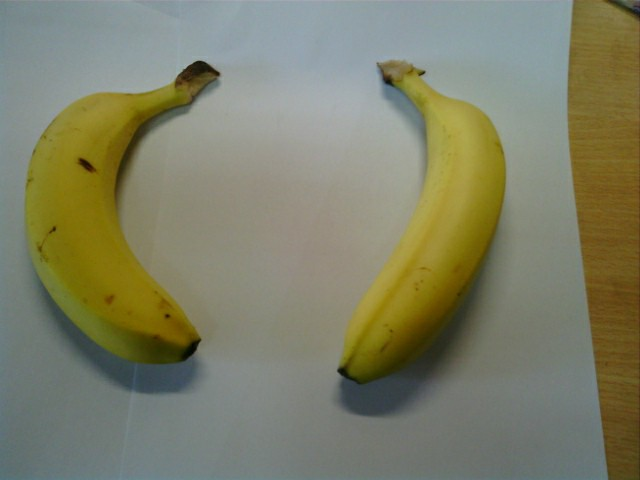fresh_banana: (344, 59, 504, 381)
normal_banana: (26, 79, 199, 365)
